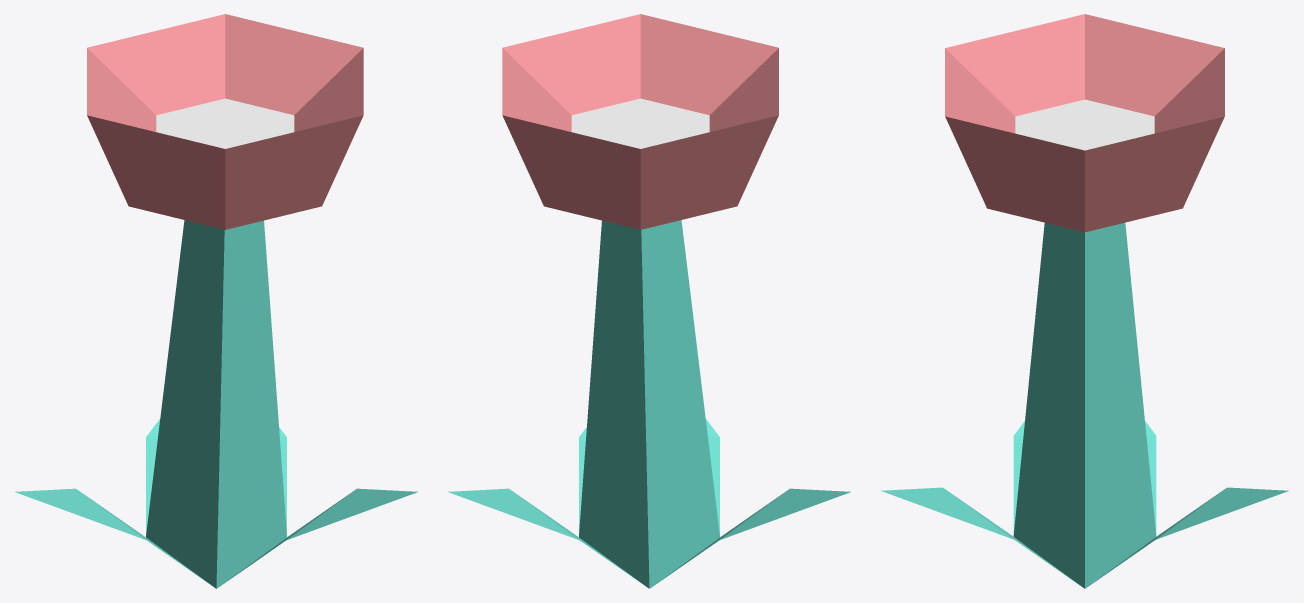
The model's file is flower_redC.glb.
The picture shows the model from 3 angles, left to right: view 1: azimuth 30°, elevation 25°; view 2: azimuth 150°, elevation 25°; view 3: azimuth 270°, elevation 25°; orthographic projection.
Visible parts, largest first — view 1: flower_redC; view 2: flower_redC; view 3: flower_redC.
Boxes of the visible parts, x1,y1,x2,y2 form: flower_redC: [15, 14, 417, 588]; flower_redC: [448, 14, 850, 588]; flower_redC: [881, 14, 1288, 588].
Size of the model in its own units: 0.1806 by 0.2325 by 0.1811.
Materials: 1 (1 with a texture image).
